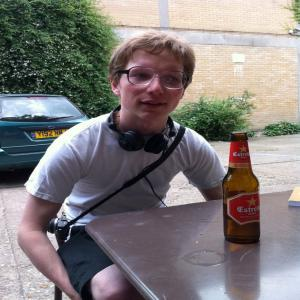Vehicle-registration-plate: (31, 130, 70, 139)
